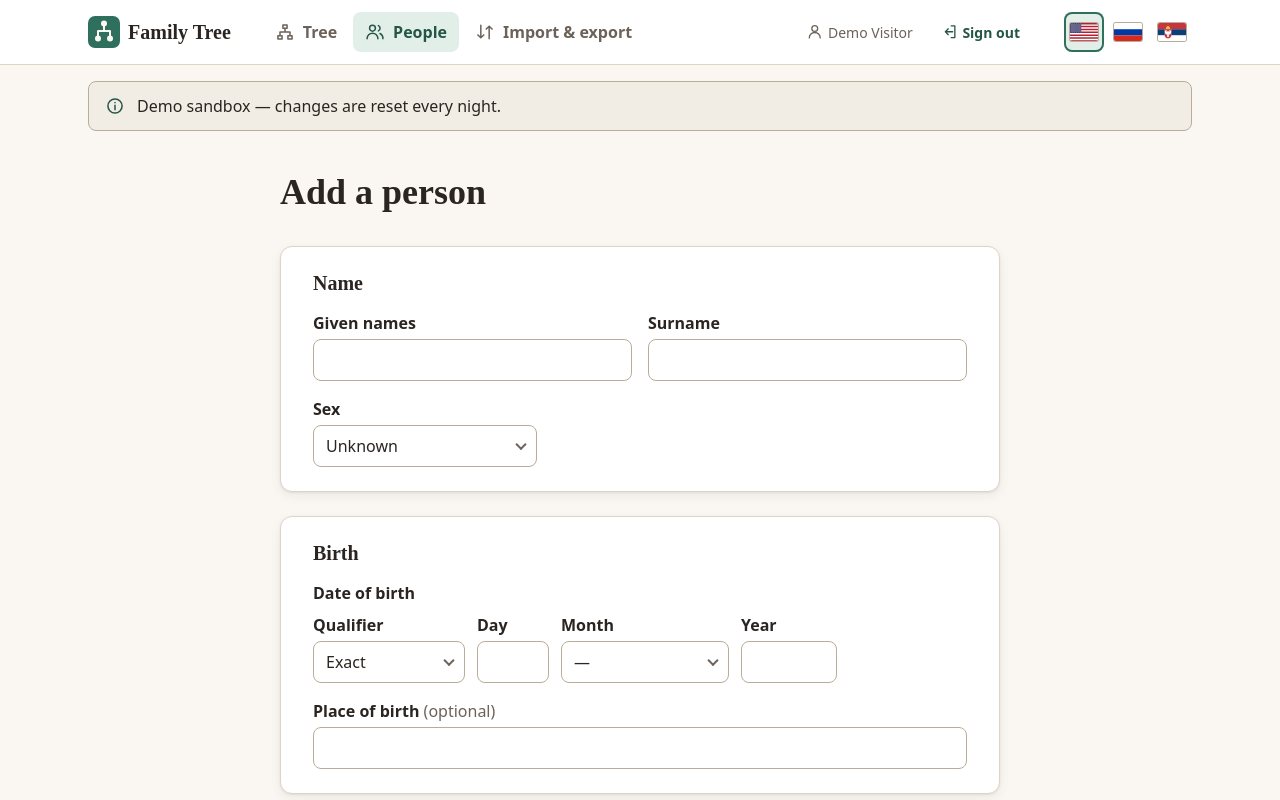
Test case: switching keeps what was typed into a form
Type "Ljubica" into the field labelled "Given names" at (472, 360), box [313, 339, 632, 381]
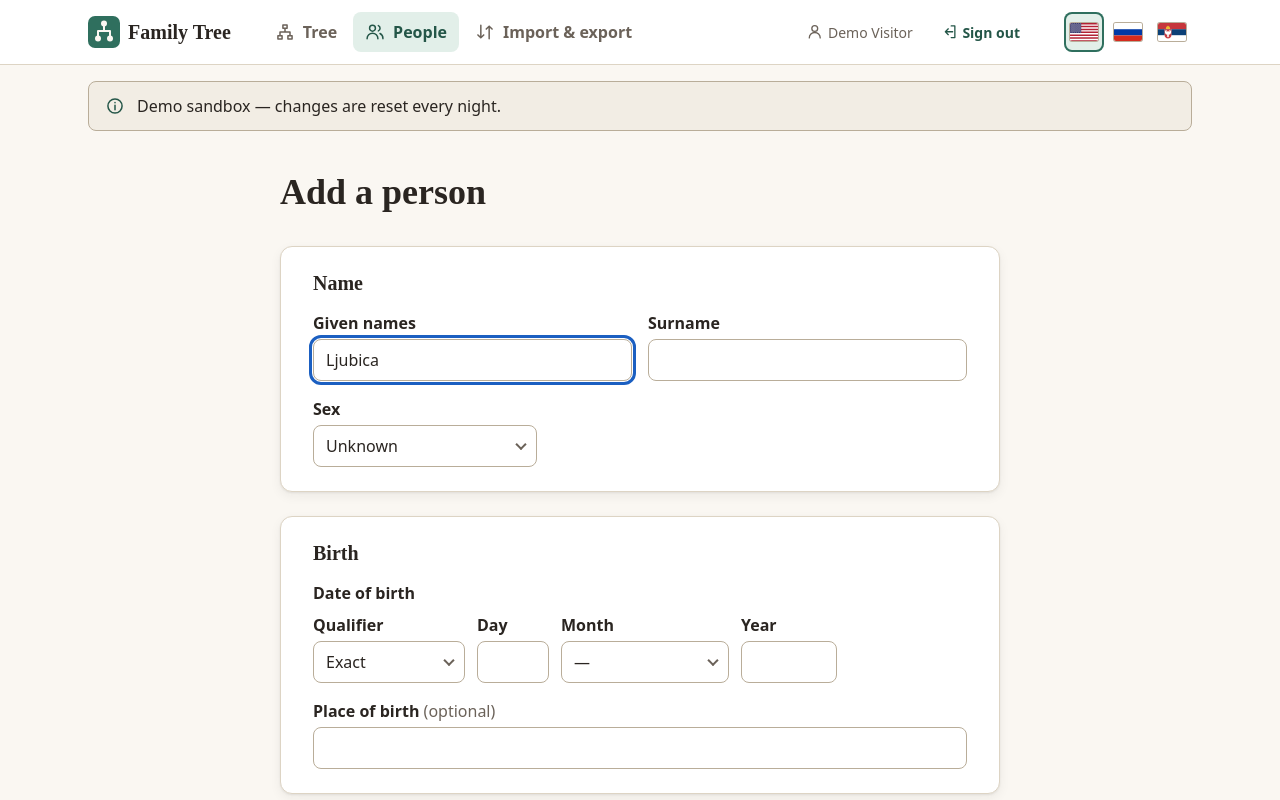
Click the button named "Српски" at (1172, 32), box [1152, 12, 1192, 52]
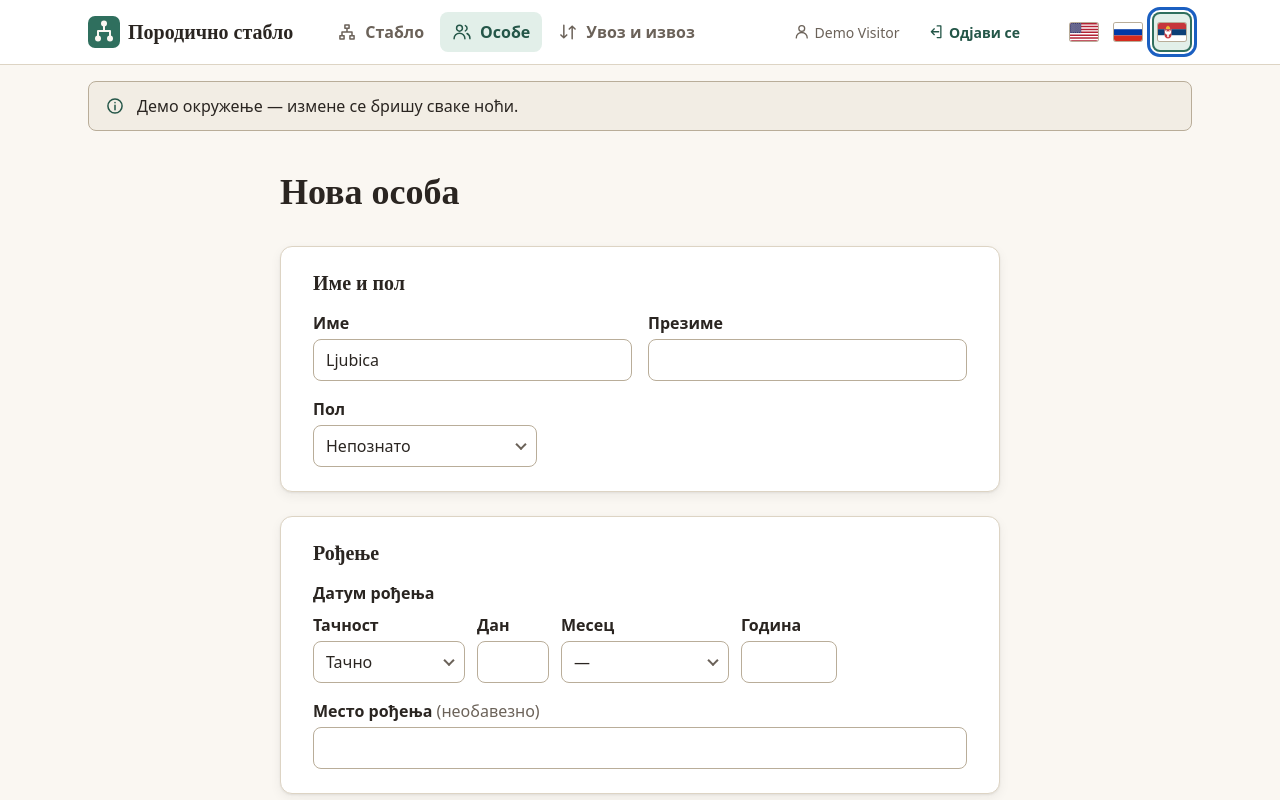
Expected: the heading "Нова особа" is shown, [280, 171, 460, 214]
